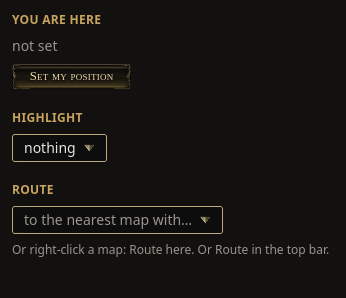
Test case: RouteTab › asks where you are until it is set
The width and height of the screenshot is (346, 298).
Expected: the text "not set" is shown, [12,36,58,55]
Click the button "Set my position" at (72, 77), box [12,64,131,90]
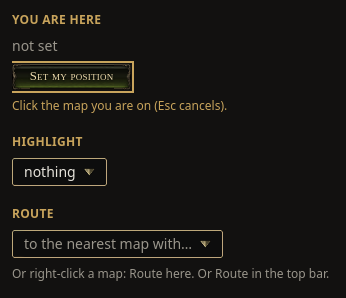
Result: the text "Click the map you are on (Esc cancels)." is shown at [12,97,227,114]
